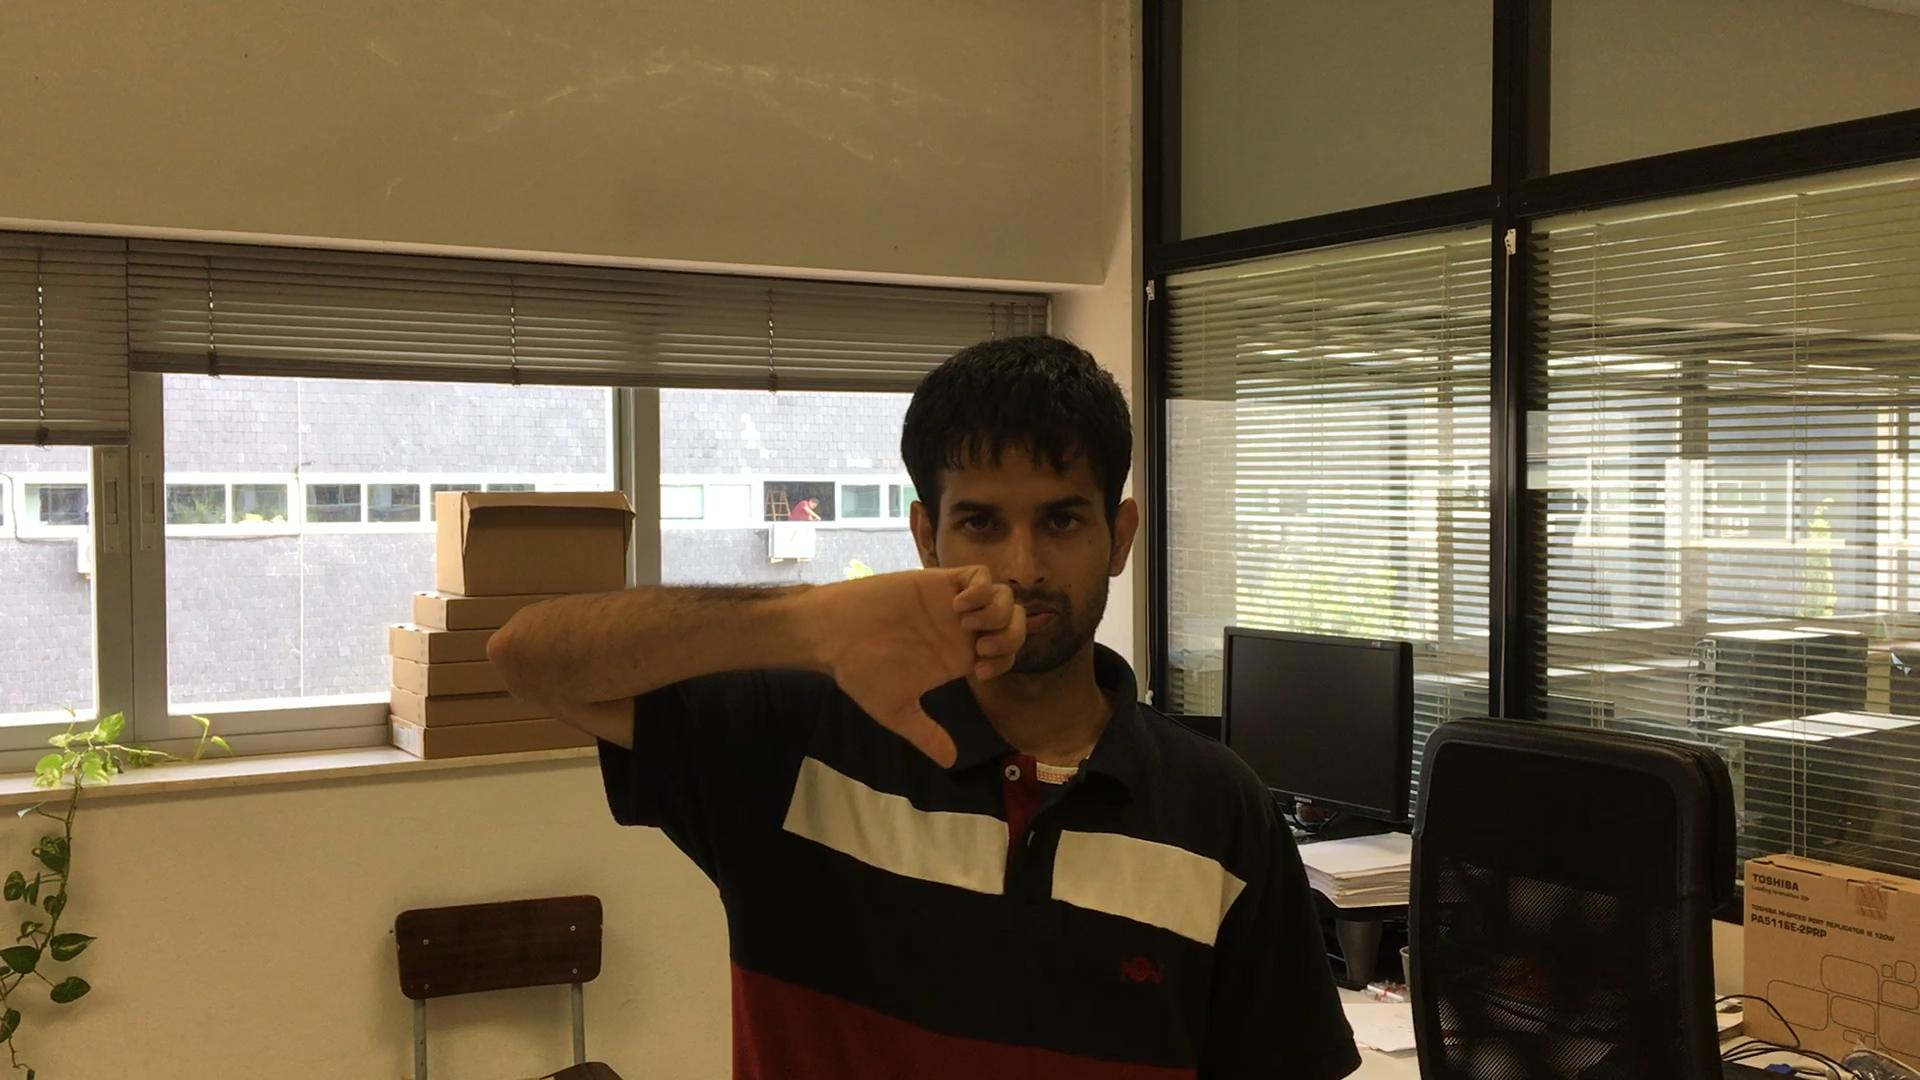down: (737, 512, 1073, 804)
